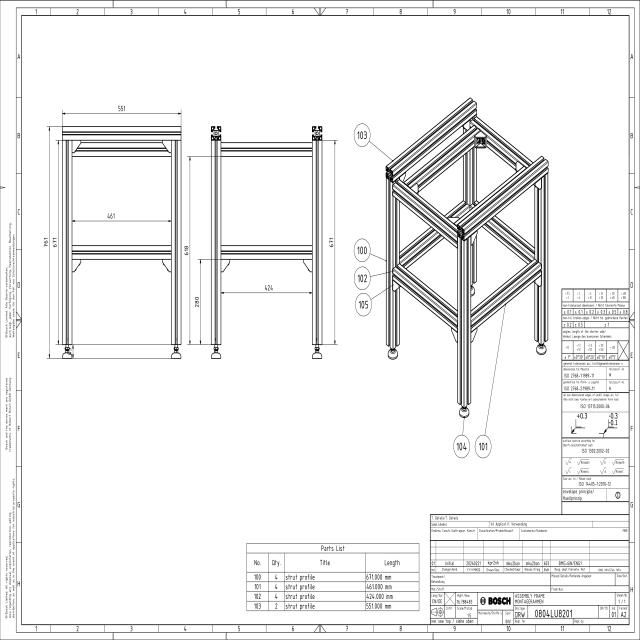dimension: (264, 284, 274, 292), (194, 295, 200, 308), (117, 104, 126, 112), (107, 212, 116, 219), (52, 236, 57, 248), (329, 236, 334, 248), (44, 236, 48, 248), (184, 244, 188, 256)
